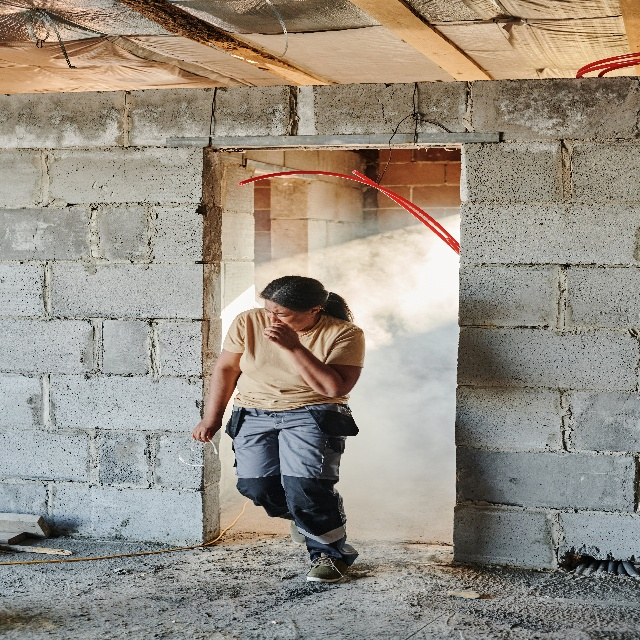Gafas: (179, 436, 218, 466)
Sin_guantes: (261, 324, 299, 352), (191, 413, 222, 444)
